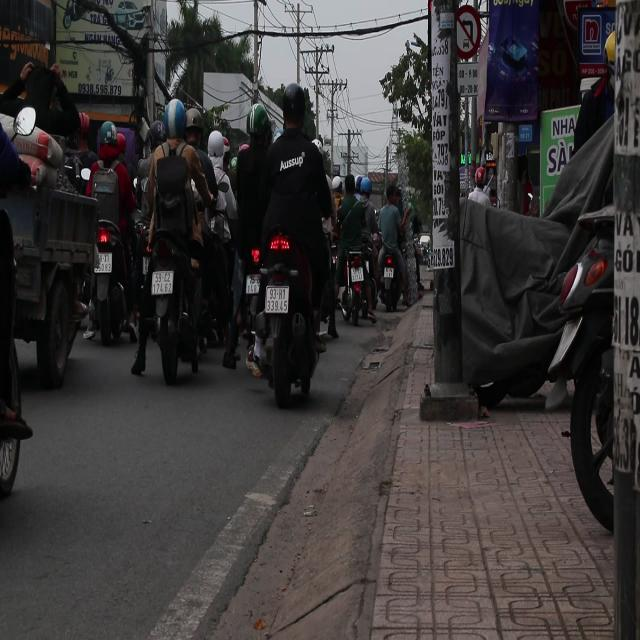motorbike: (538, 160, 639, 569), (131, 140, 205, 384), (244, 220, 323, 409), (87, 125, 139, 352), (338, 246, 370, 326), (374, 238, 408, 312)
truck: (1, 66, 102, 399)
